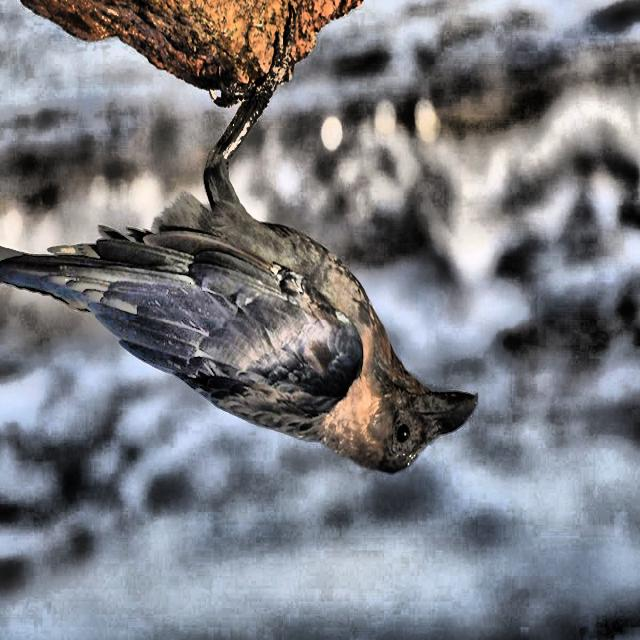crow: (1, 0, 480, 515)
